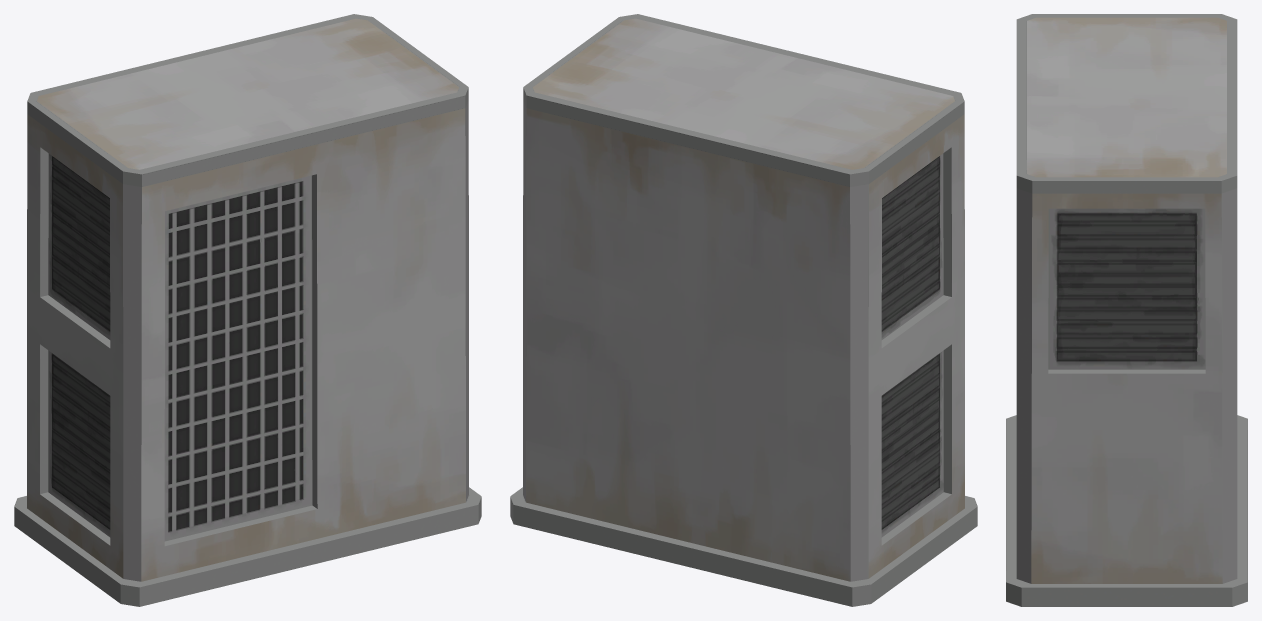
3 views of the same model, side by side, from view 1: azimuth 30°, elevation 25°; view 2: azimuth 150°, elevation 25°; view 3: azimuth 270°, elevation 25° (orthographic).
Parts seen in each view (by area): view 1: SM_AC01; view 2: SM_AC01; view 3: SM_AC01.
Part boxes in pixels (<box>): SM_AC01: <box>14,14,481,606</box>; SM_AC01: <box>510,14,977,606</box>; SM_AC01: <box>1006,14,1247,606</box>.
Size of the model in its own units: 1.92 by 2.17 by 1.12.
Materials: 1 (1 with a texture image).
